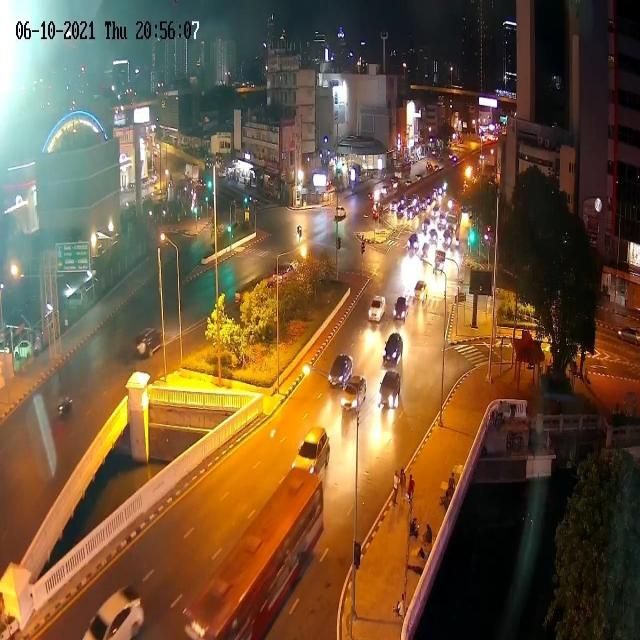Bus: (182, 473, 328, 640)
Car: (85, 587, 151, 640), (292, 419, 332, 485), (133, 316, 164, 365), (377, 367, 408, 412), (326, 349, 354, 393), (342, 370, 364, 419), (382, 329, 407, 372), (365, 291, 387, 327), (391, 290, 409, 332), (409, 277, 432, 305), (332, 206, 351, 223), (406, 235, 421, 255), (414, 170, 424, 184), (404, 177, 413, 191), (428, 230, 437, 243)
